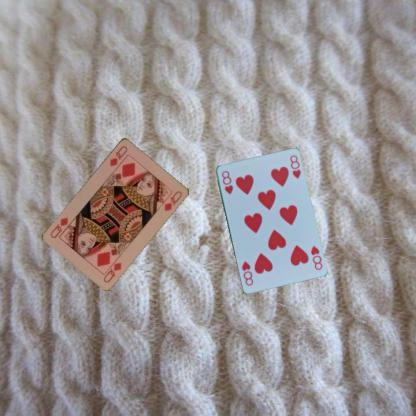8h: (308, 242, 324, 272), (219, 168, 234, 195)
Qd: (100, 254, 122, 284), (107, 142, 129, 168)
